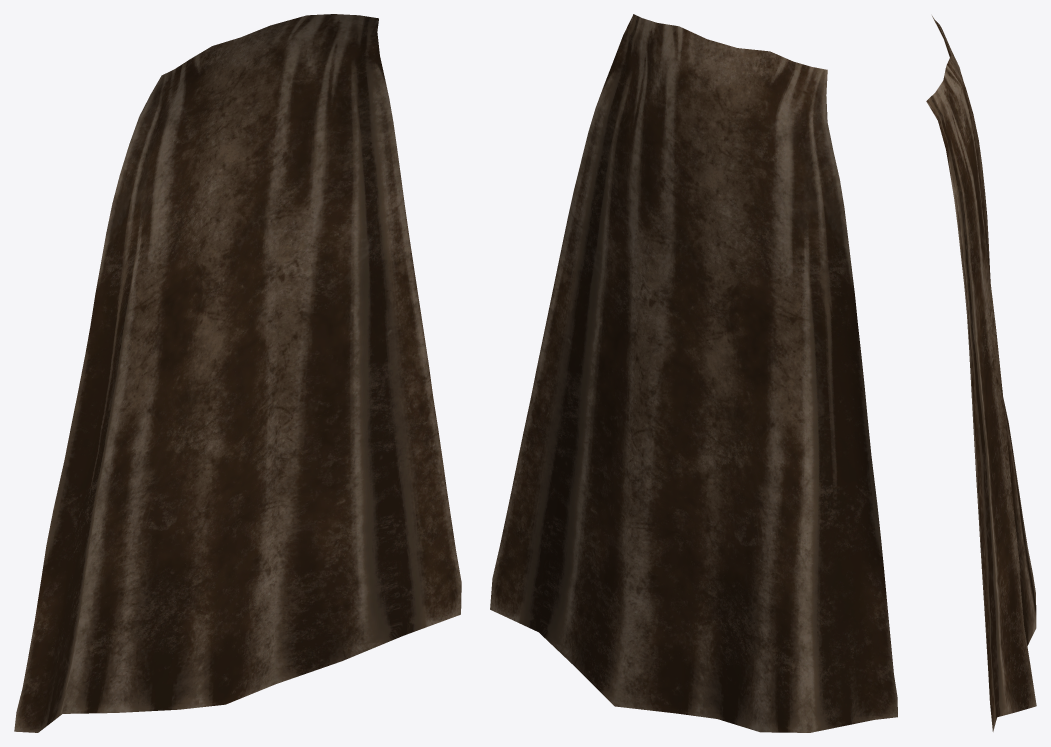
Rendered from clo_dunland_caerdh_cape_long_a.fbx.
3 views of the same model, side by side, from view 1: azimuth 30°, elevation 25°; view 2: azimuth 150°, elevation 25°; view 3: azimuth 270°, elevation 25° (orthographic). The views are drawn at different scales.
Visible parts, largest first — view 1: clo_dunland_caerdh_cape_long_a; view 2: clo_dunland_caerdh_cape_long_a; view 3: clo_dunland_caerdh_cape_long_a.
Part boxes in pixels (box(x1,y1,x2,y2)): clo_dunland_caerdh_cape_long_a: box(14, 14, 461, 732); clo_dunland_caerdh_cape_long_a: box(490, 14, 897, 732); clo_dunland_caerdh_cape_long_a: box(926, 16, 1036, 731).
Bounding box in the file's own units: 0.9531 × 0.2299 × 1.45.
1 material, 1 textured.
